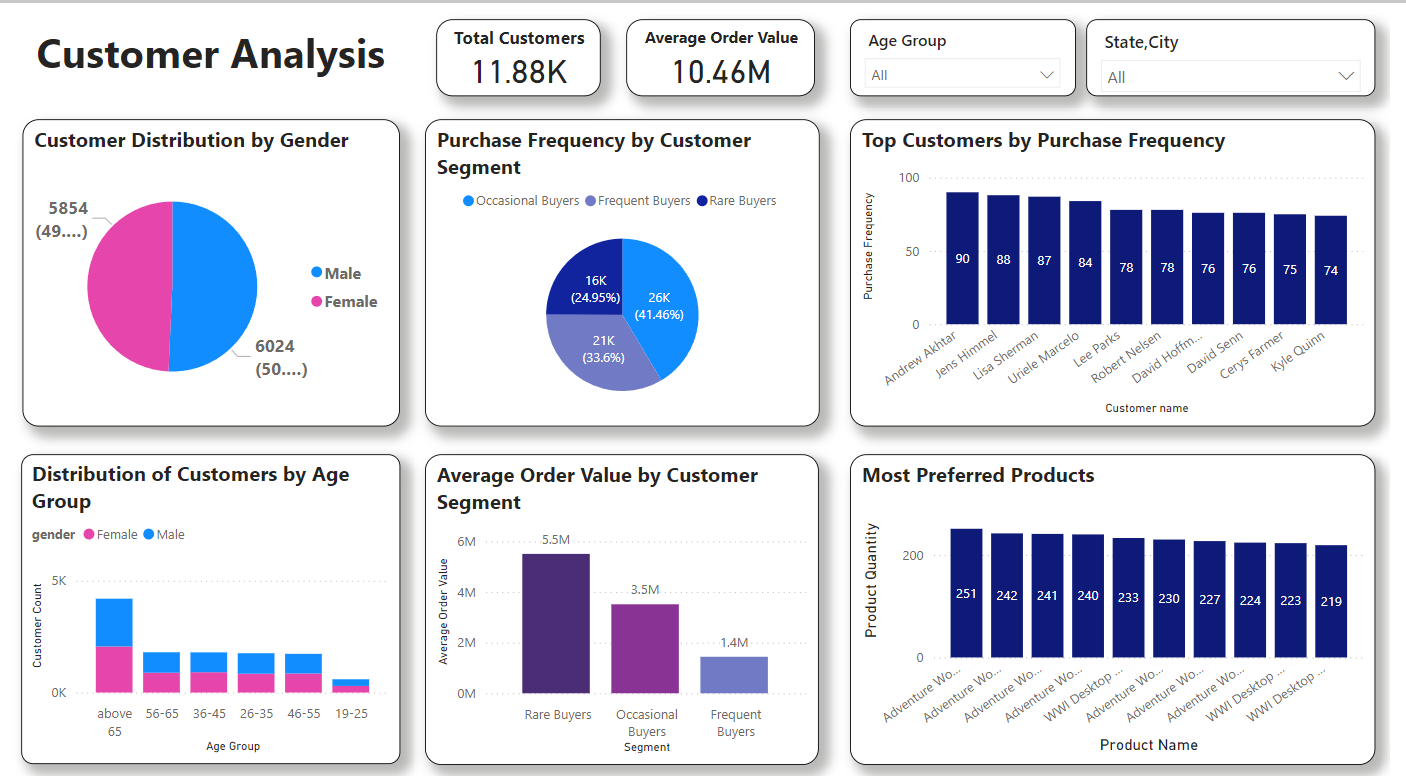

This screenshot's page, from the dashboard's own definition file:
{"tool":"powerbi","page":{"name":"Customer Analysis","canvas":[1280,720],"ordinal":0},"visuals":[{"type":"pieChart","title":"Customer Distribution by Gender","fields":{"Category":["Query1.gender"],"Y":["Query1.customer_count"]},"box":[16.5,107,348.5,284],"z":0},{"type":"columnChart","title":"Top Customers by Purchase Frequency","fields":{"Category":["Query2.name"],"Y":["Query2.purchase_frequency"]},"box":[781.1,107.1,485.8,284],"z":1000},{"type":"columnChart","title":"Average Order Value by Customer Segment","fields":{"Category":["Query3.segment"],"Y":["Query3.average_order_value"]},"box":[388.3,416.6,364.1,287.5],"z":2000},{"type":"pieChart","title":"Purchase Frequency by Customer Segment","fields":{"Category":["Query3.segment"],"Y":["Query3.purchase_frequency"]},"box":[388.1,107,364.5,283.6],"z":3000},{"type":"slicer","fields":{"Values":["Query1.age_group"]},"box":[780.8,15.1,208.6,71.4],"z":5000},{"type":"slicer","fields":{"Values":["Query1.state","Query1.city"]},"box":[999,15,267.1,71.2],"z":6000},{"type":"textbox","box":[0,15,380.5,78.7],"z":7000},{"type":"card","title":"Total Customers","fields":{"Values":["Query1.customerkey"]},"box":[398.3,15,151.8,71.2],"z":8000},{"type":"columnChart","title":"Distribution of Customers by Age Group","fields":{"Category":["Query1.age_group"],"Y":["Query1.customer_count"],"Series":["Query1.gender"]},"box":[14.7,417.6,350.5,286.5],"z":9000},{"type":"columnChart","title":"Most Preferred Products","fields":{"Category":["Query2.preferred_product"],"Y":["Query2.preferred_product_quantity"]},"box":[781.1,417,485.8,287.4],"z":10000},{"type":"card","title":"Average Order Value","fields":{"Values":["Query3.average_order_value"]},"box":[574.5,15,174.3,71.2],"z":11000}]}

Visuals, with their boxes in screenshot pixels (x1, y1, x2, y2), scaled from the page's 1280x720 canvas onto the 1406x776 screenshot:
"Customer Distribution by Gender" pieChart: detection(18, 115, 401, 421)
"Top Customers by Purchase Frequency" columnChart: detection(858, 115, 1392, 422)
"Average Order Value by Customer Segment" columnChart: detection(427, 449, 826, 759)
"Purchase Frequency by Customer Segment" pieChart: detection(426, 115, 827, 421)
slicer - Query1.age_group: detection(858, 16, 1087, 93)
slicer - Query1.state x Query1.city: detection(1097, 16, 1391, 93)
textbox: detection(0, 16, 418, 101)
"Total Customers" card: detection(438, 16, 604, 93)
"Distribution of Customers by Age Group" columnChart: detection(16, 450, 401, 759)
"Most Preferred Products" columnChart: detection(858, 449, 1392, 759)
"Average Order Value" card: detection(631, 16, 823, 93)
